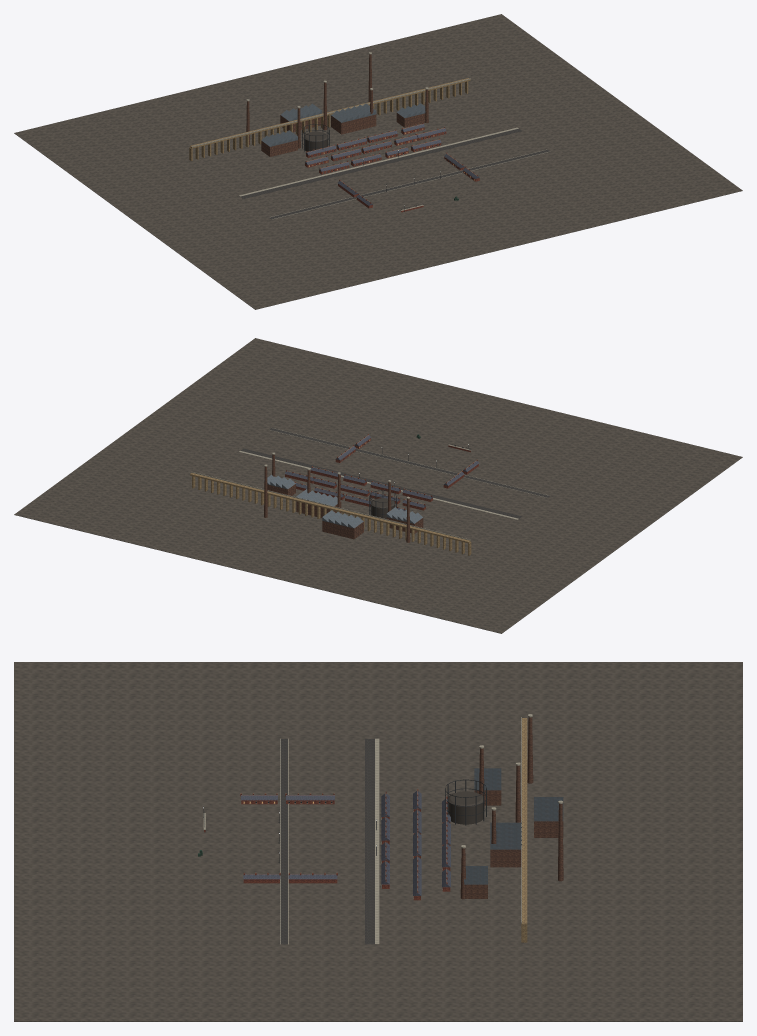
Rendered from town.glb.
3 renders of one model, top to bottom at view 1: azimuth 30°, elevation 25°; view 2: azimuth 150°, elevation 25°; view 3: azimuth 270°, elevation 25°, orthographic. The views are drawn at different scales.
Visible parts, largest first — view 1: ground, back-street, viaduct-deck, street, back-pavement, far-works-1; view 2: ground, viaduct-deck, back-street, street; view 3: ground, back-street, street, viaduct-deck, back-pavement, gasholder-tank, far-works-1.
Boxes of the visible parts, bbox=[...] form: ground: bbox=[14, 14, 742, 309]; back-street: bbox=[240, 128, 521, 198]; viaduct-deck: bbox=[190, 78, 470, 148]; street: bbox=[269, 149, 549, 219]; back-pavement: bbox=[239, 127, 518, 196]; far-works-1: bbox=[331, 114, 376, 134]; ground: bbox=[14, 338, 742, 633]; viaduct-deck: bbox=[190, 473, 470, 543]; back-street: bbox=[241, 448, 521, 518]; street: bbox=[269, 428, 549, 497]; ground: bbox=[14, 662, 742, 1021]; back-street: bbox=[365, 739, 374, 944]; street: bbox=[280, 739, 287, 944]; viaduct-deck: bbox=[521, 718, 527, 925]; back-pavement: bbox=[375, 738, 379, 944]; gasholder-tank: bbox=[448, 803, 483, 824]; far-works-1: bbox=[490, 849, 521, 867].
Bounding box in the file's own units: 70 × 7.48 × 60.
Materials: 17 (13 with a texture image).
